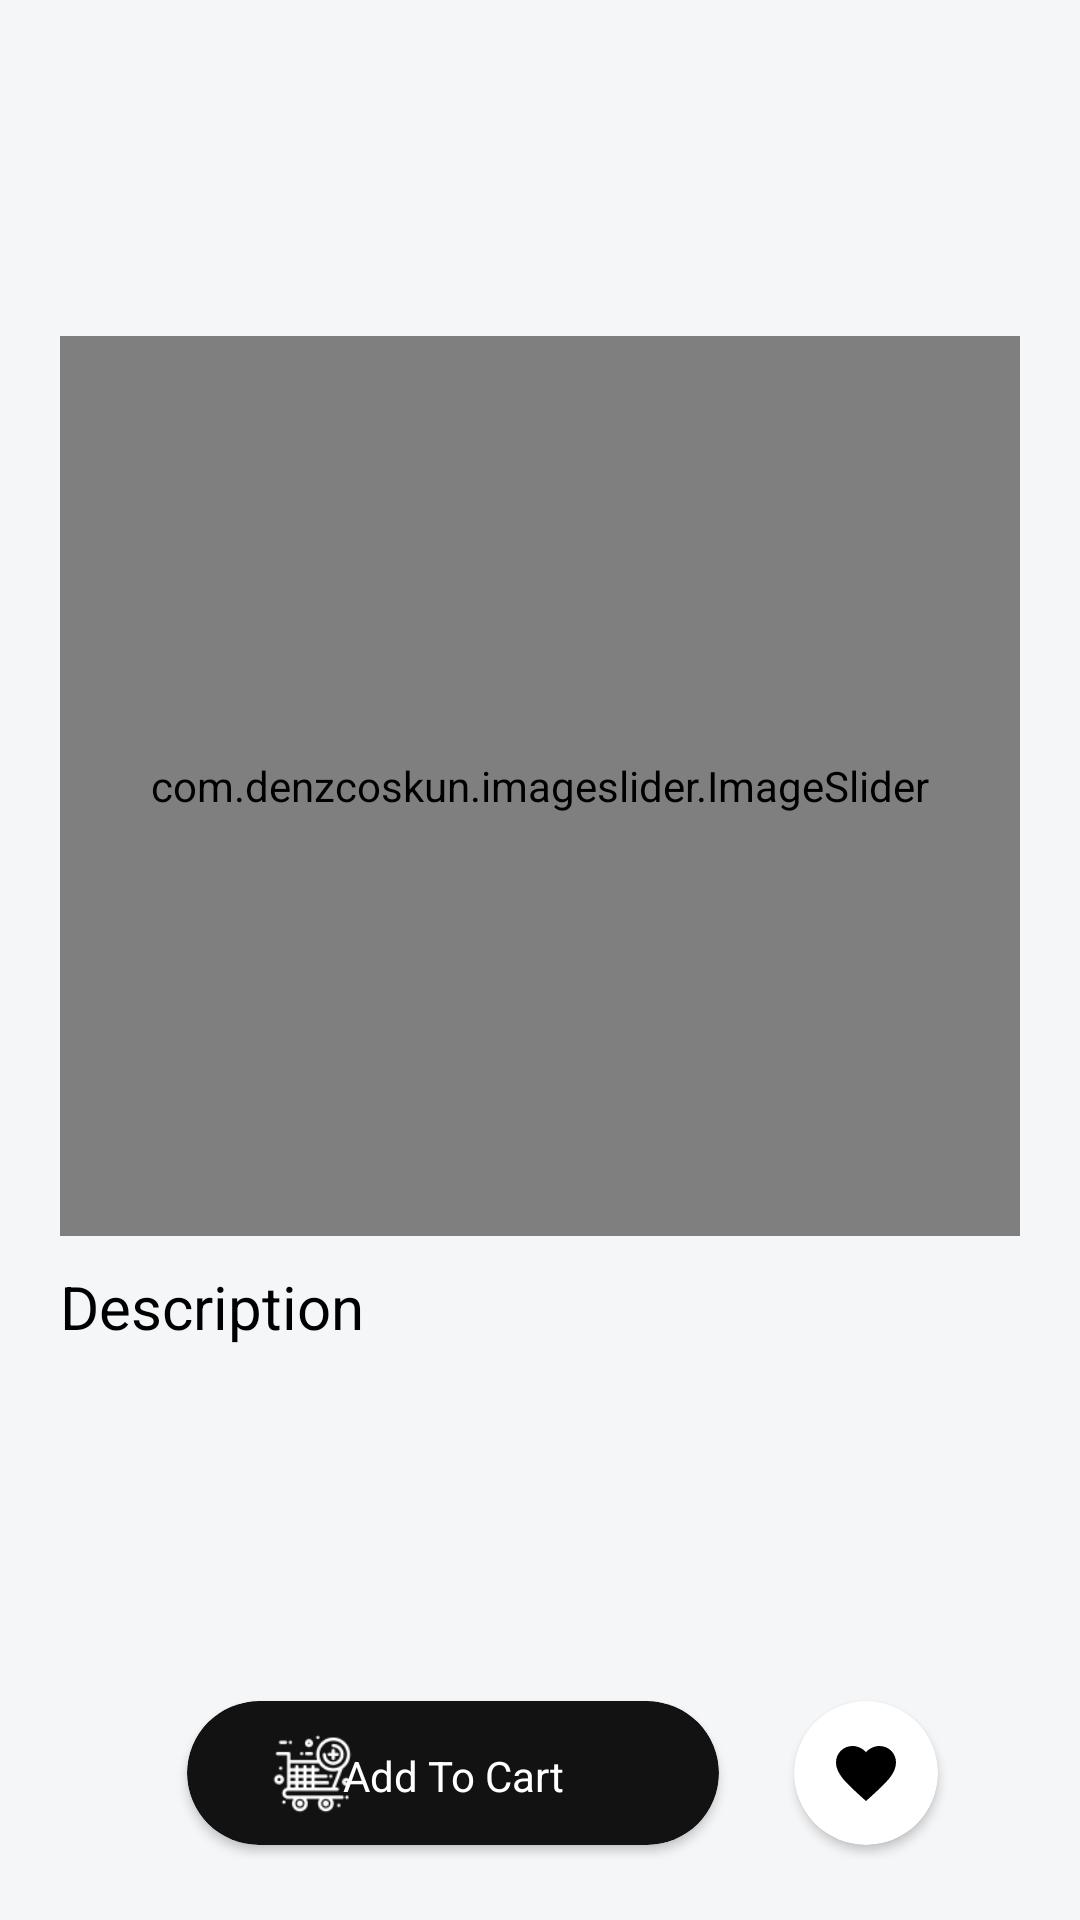

Screen size 1080 x 1920. Icon name, then its center in pixels as (x,y):
favorite: (866,1773)
